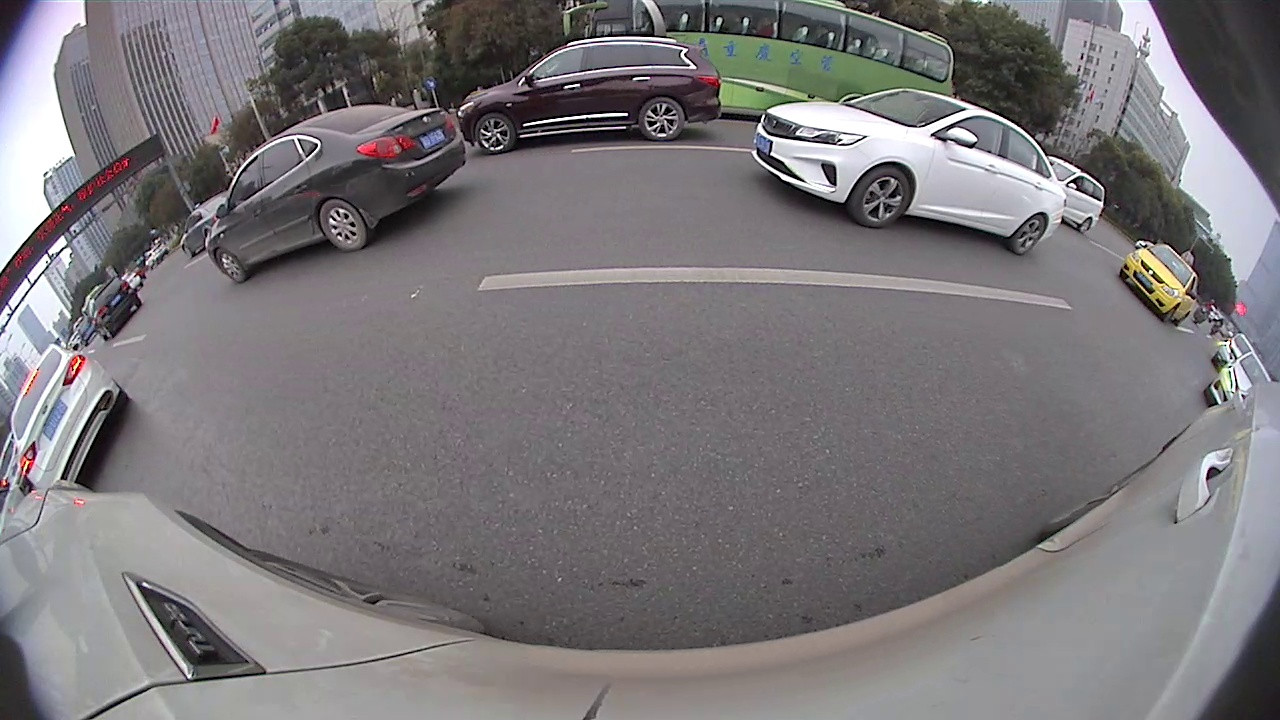bus: (555, 0, 958, 124)
car: (752, 86, 1069, 256), (201, 102, 469, 287), (455, 34, 725, 158), (7, 339, 129, 491), (1118, 240, 1202, 330), (1046, 149, 1109, 236), (1202, 346, 1270, 419)
front: (854, 163, 913, 229), (475, 113, 515, 155), (214, 246, 248, 285)
rear: (315, 198, 368, 254), (638, 97, 685, 142), (1013, 213, 1045, 255)
